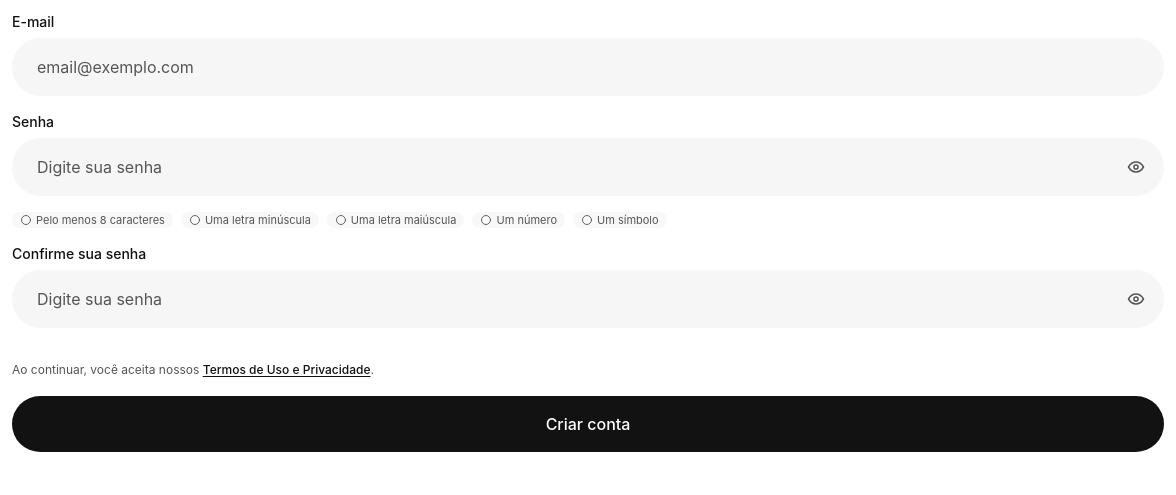
Test: SignUpForm › shows inline the password the identity provider refused
Type "person@example.com" into the field labelled "E-mail" at (588, 67), box [12,38,1164,96]
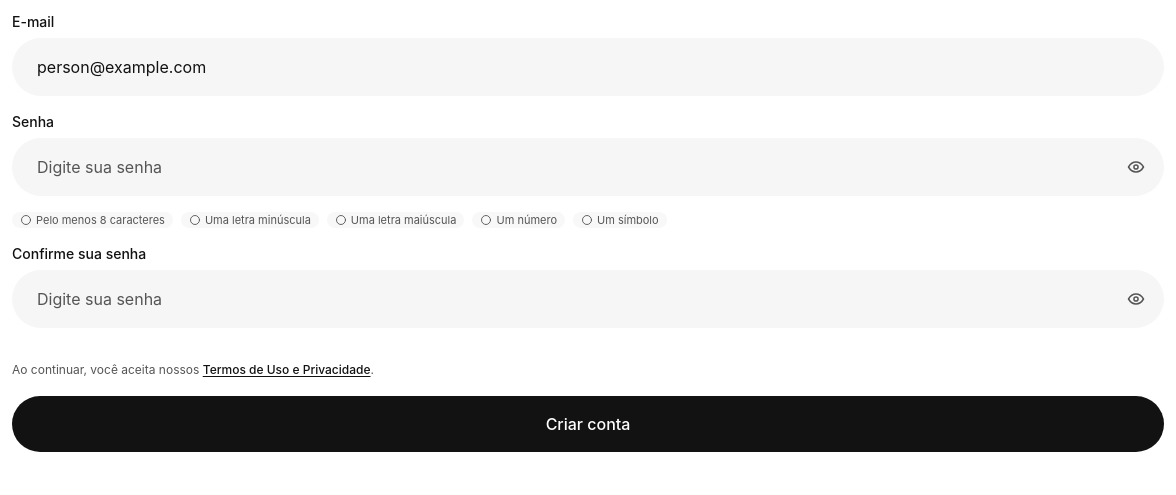
Type "Valid_password1!" into the password field labelled "Senha" at (588, 167), box [12,138,1164,196]
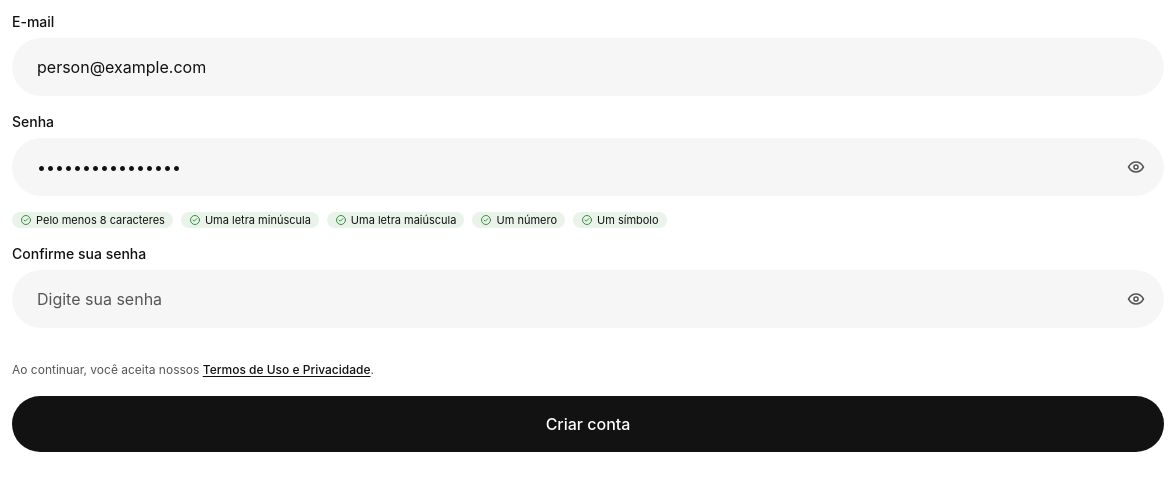
Type "Valid_password1!" into the password field labelled "Confirme sua senha" at (588, 299), box [12,270,1164,328]
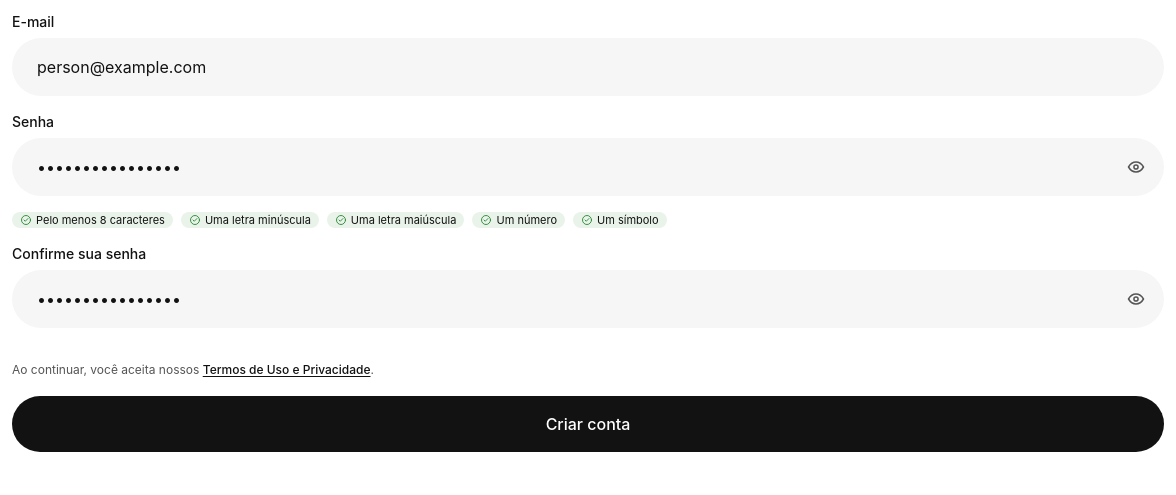
Click the button "Criar conta" at (588, 424), box [12,396,1164,452]
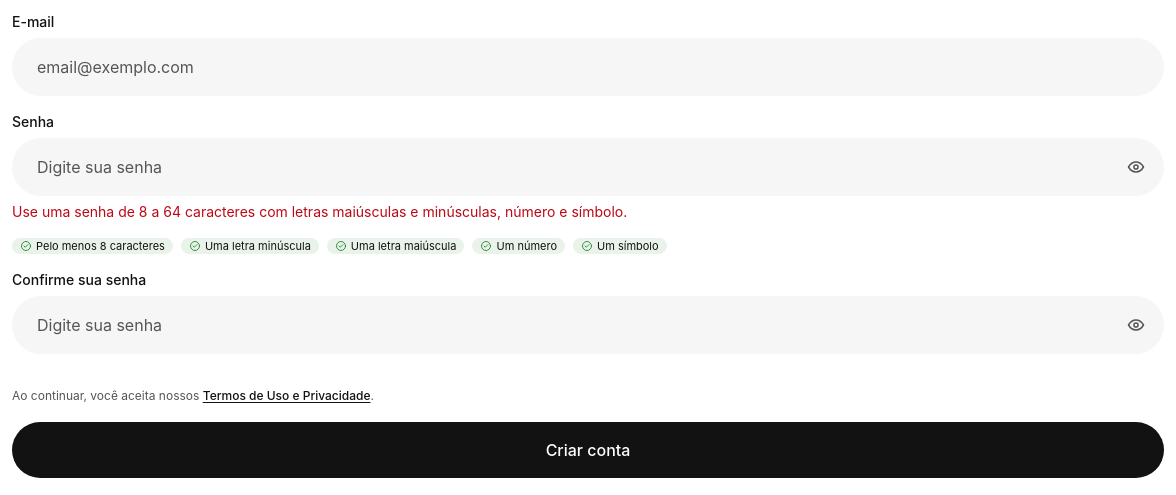
Now the message shows "Use uma senha de 8 a 64 caracteres com letras maiúsculas e minúsculas, número e símbolo.", box [12,203,627,220]
